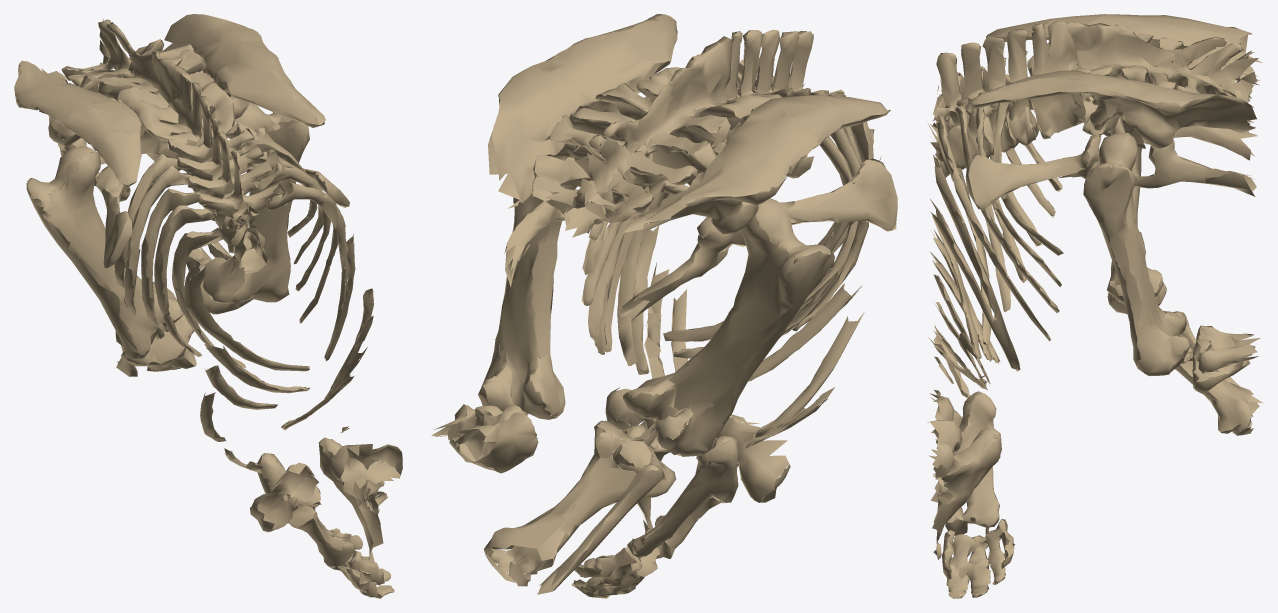
The model's file is FossilScan3.glb.
3 renders of one model, left to right at view 1: azimuth 30°, elevation 25°; view 2: azimuth 150°, elevation 25°; view 3: azimuth 270°, elevation 25°, orthographic. The views are drawn at different scales.
Parts seen in each view (by area): view 1: FossilScan3; view 2: FossilScan3; view 3: FossilScan3.
Boxes of the visible parts, bbox=[...] form: FossilScan3: bbox=[14, 14, 402, 598]; FossilScan3: bbox=[431, 14, 897, 598]; FossilScan3: bbox=[927, 14, 1263, 598].
Bounding box in the file's own units: 9.66 × 16.96 × 10.25.
